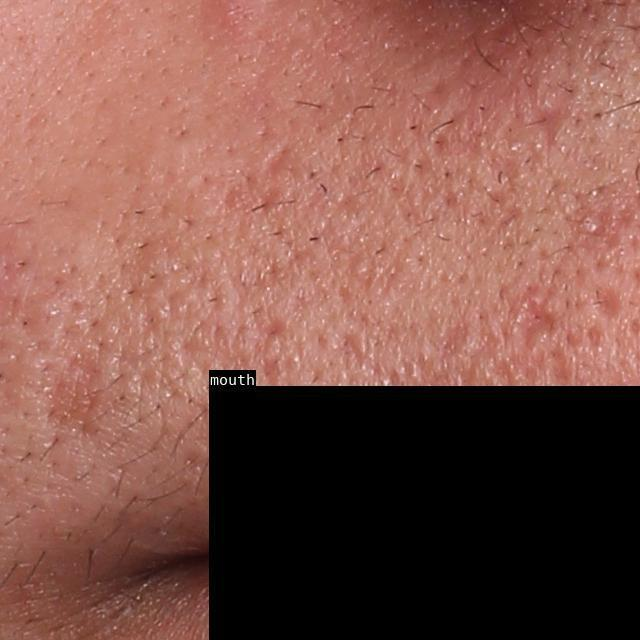atrophic_scar: (39, 341, 102, 431), (530, 86, 581, 153), (569, 204, 636, 247), (516, 297, 556, 356), (590, 281, 625, 323), (261, 144, 291, 175)
